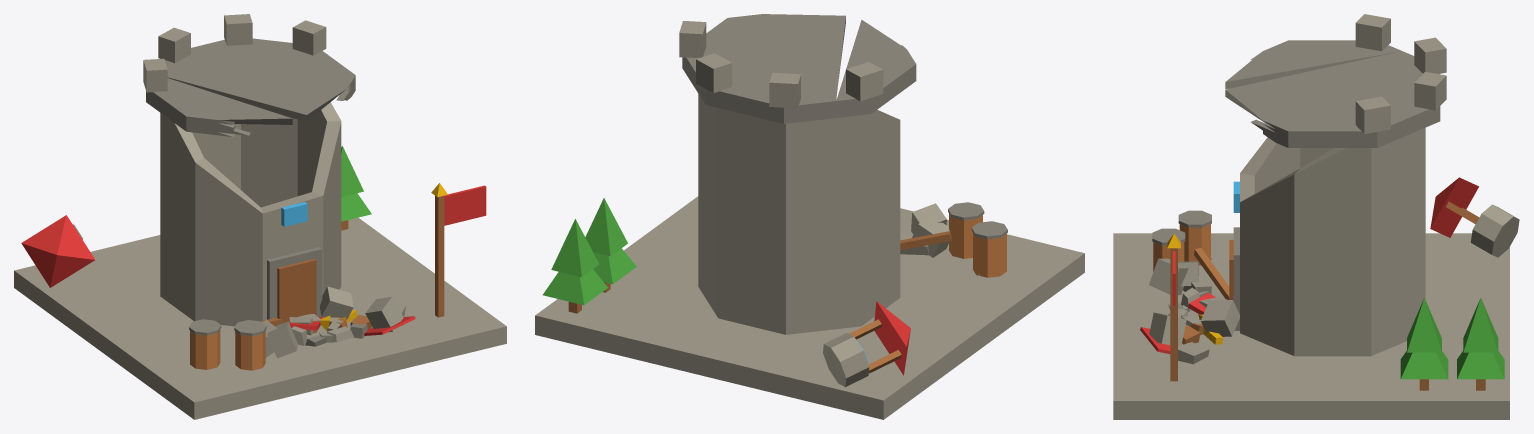
File: defense_tower_t2_v3_dmg1.glb
3 views of the same model, side by side, from view 1: azimuth 30°, elevation 25°; view 2: azimuth 150°, elevation 25°; view 3: azimuth 270°, elevation 25° (orthographic). The views are drawn at different scales.
Parts seen in each view (by area): view 1: defense_tower_t2_v3_dmg1; view 2: defense_tower_t2_v3_dmg1; view 3: defense_tower_t2_v3_dmg1.
Boxes of the visible parts, x1=… form: defense_tower_t2_v3_dmg1: x1=14, y1=14, x2=506, y2=419; defense_tower_t2_v3_dmg1: x1=535, y1=14, x2=1084, y2=419; defense_tower_t2_v3_dmg1: x1=1113, y1=14, x2=1519, y2=419.
Bounding box in the file's own units: 0.7812 × 0.572 × 0.7685.
Materials: 1 (1 with a texture image).
